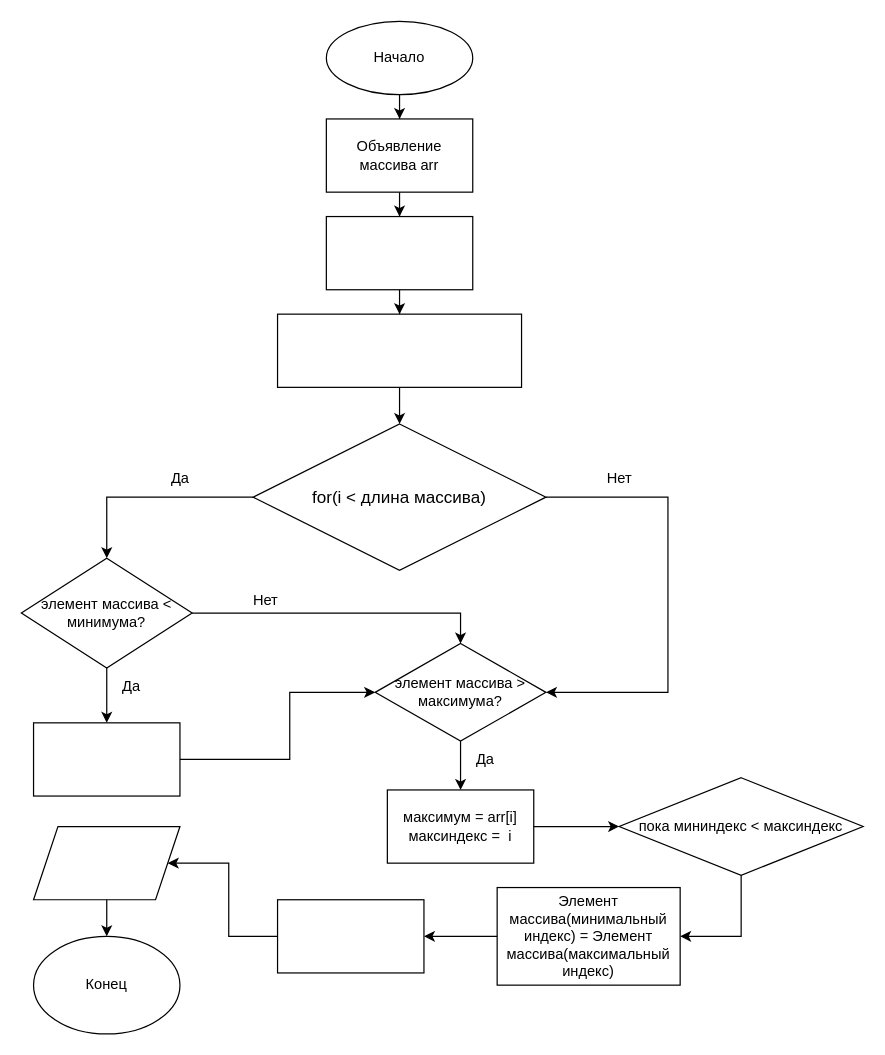
Some shapes in this 885 by 1055 pixel diagram are drawn without their labels. Each missing label, with the centre of its shape:
"Вывести массив" belongs at point (106, 862).
"Вызов функункции" belongs at point (399, 252).
"максиндекс++ мининдекс++" belongs at point (350, 936).
"минимум = arr[i] мининдекс = i" belongs at point (106, 759).
"Объявление минимума, максимума, мининдекса и максиндекса" belongs at point (399, 350).
